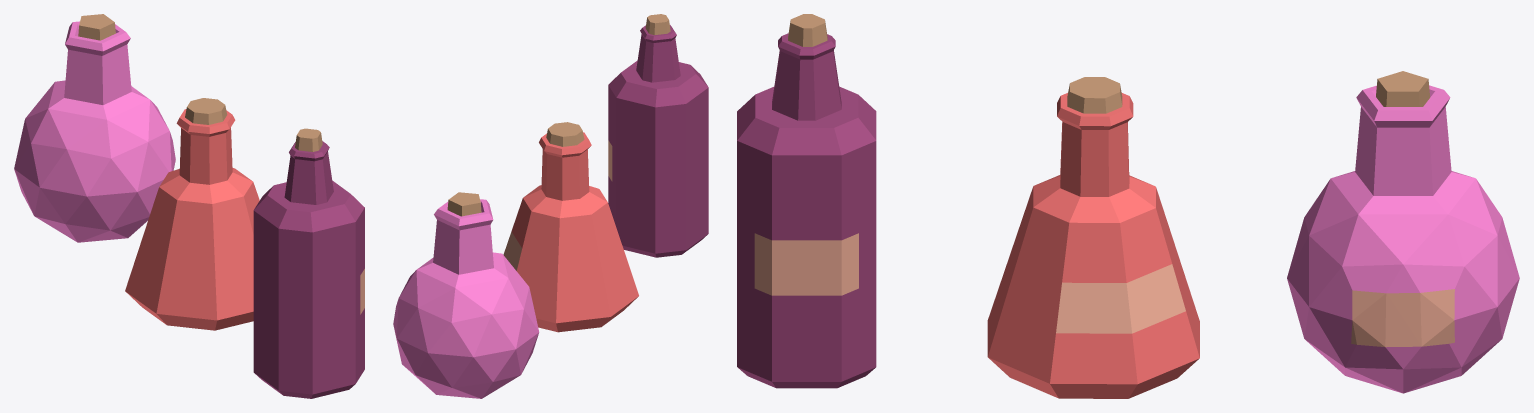
Rendered from potion bottles export.fbx.
3 renders of one model, left to right at view 1: azimuth 30°, elevation 25°; view 2: azimuth 150°, elevation 25°; view 3: azimuth 270°, elevation 25°, orthographic. The views are drawn at different scales.
Visible parts, largest first — view 1: Bottle 3, Bottle 2, Bottle 1, Cork 1, Cork, Cork 3; view 2: Bottle 2, Bottle 3, Bottle 1, Cork 1, Cork, Cork 3, Label 1; view 3: Bottle 2, Bottle 3, Bottle 1, Label 1, Label 3, Label 2, Cork 1, Cork, Cork 3.
Boxes of the visible parts, box(x1,y1,x2,y2) form: Bottle 3: box(253, 141, 364, 398); Bottle 2: box(14, 21, 175, 242); Bottle 1: box(125, 109, 259, 330); Cork 1: box(185, 98, 227, 124); Cork: box(78, 14, 115, 40); Cork 3: box(295, 128, 322, 151); Bottle 2: box(393, 199, 539, 398); Bottle 3: box(608, 25, 708, 257); Bottle 1: box(511, 132, 638, 332); Cork 1: box(546, 122, 584, 146); Cork: box(447, 192, 481, 216); Cork 3: box(645, 14, 670, 35); Label 1: box(503, 231, 522, 270); Bottle 2: box(1287, 85, 1519, 393); Bottle 3: box(737, 33, 876, 388); Bottle 1: box(987, 93, 1199, 398); Label 1: box(1056, 264, 1185, 333); Label 3: box(754, 233, 858, 295); Label 2: box(1351, 289, 1454, 347); Cork 1: box(1067, 77, 1122, 113); Cork: box(1376, 71, 1430, 106); Cork 3: box(788, 14, 827, 46).
Bounding box in the file's own units: 396 × 695 × 1421.
